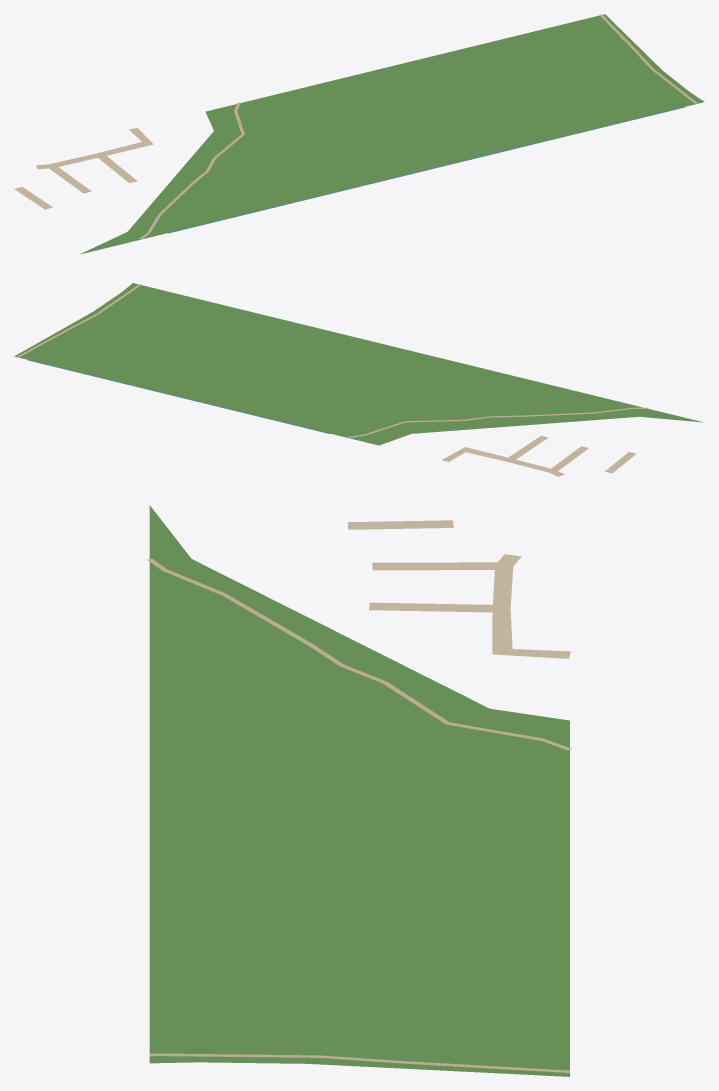
3 views of the same model, one above another, from view 1: azimuth 30°, elevation 25°; view 2: azimuth 150°, elevation 25°; view 3: azimuth 270°, elevation 25° (orthographic). The views are drawn at different scales.
Parts seen in each view (by area): view 1: ground, water; view 2: ground, water; view 3: ground.
Part boxes in pixels (bbox=[...]): ground: bbox=[14, 14, 704, 254]; water: bbox=[168, 107, 685, 233]; ground: bbox=[14, 283, 704, 476]; water: bbox=[27, 360, 330, 433]; ground: bbox=[147, 505, 571, 1076].
Bounding box in the file's own units: 450 × 0.8 × 141.
